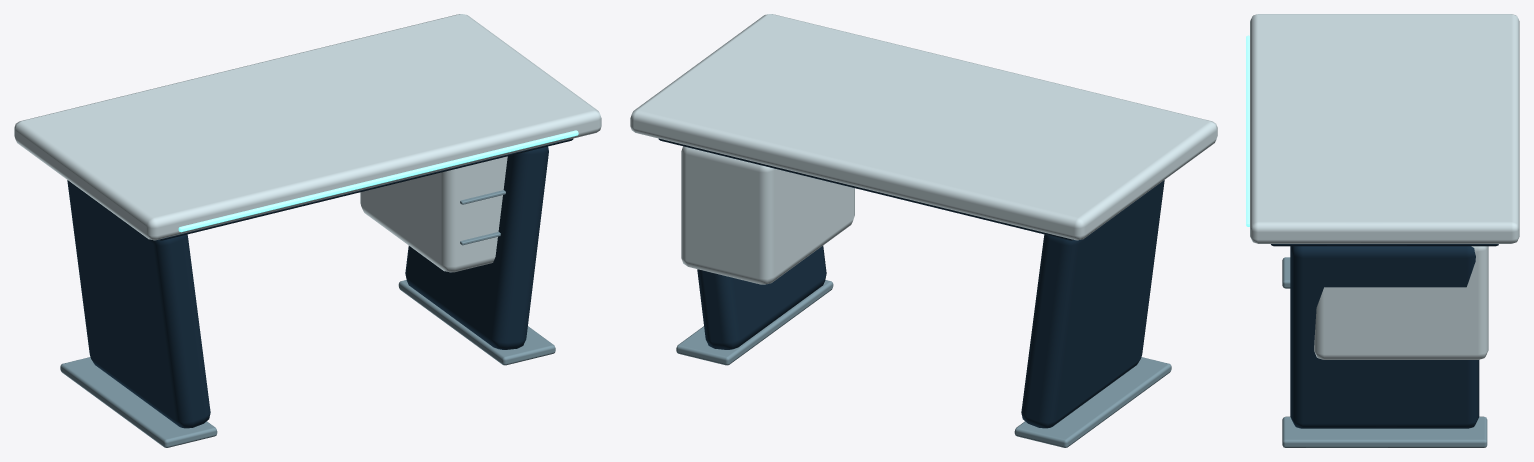
File: desk.glb
3 renders of one model, left to right at view 1: azimuth 30°, elevation 25°; view 2: azimuth 150°, elevation 25°; view 3: azimuth 270°, elevation 25°, orthographic. The views are drawn at different scales.
Visible parts, largest first — view 1: atelier-cyber-desk; view 2: atelier-cyber-desk; view 3: atelier-cyber-desk.
Boxes of the visible parts, x1,y1,x2,y2 form: atelier-cyber-desk: (14,14,601,447); atelier-cyber-desk: (630,14,1217,447); atelier-cyber-desk: (1246,14,1519,447).
Bounding box in the file's own units: 1.92 × 1 × 1.04.
